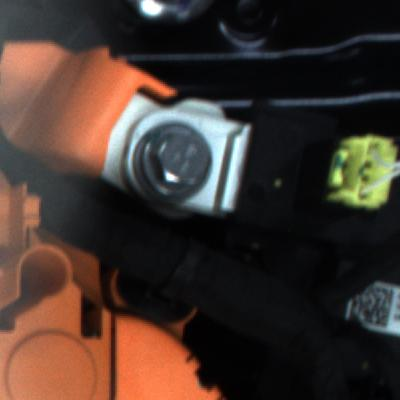nut_b: (122, 123, 228, 207)
